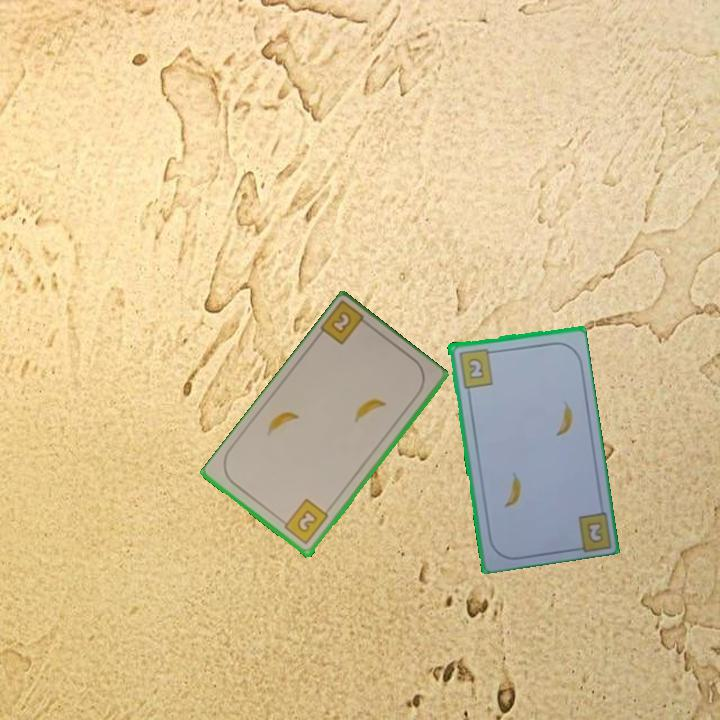2b: (277, 496, 331, 548), (317, 300, 375, 348), (455, 345, 497, 390), (585, 520, 604, 544)
